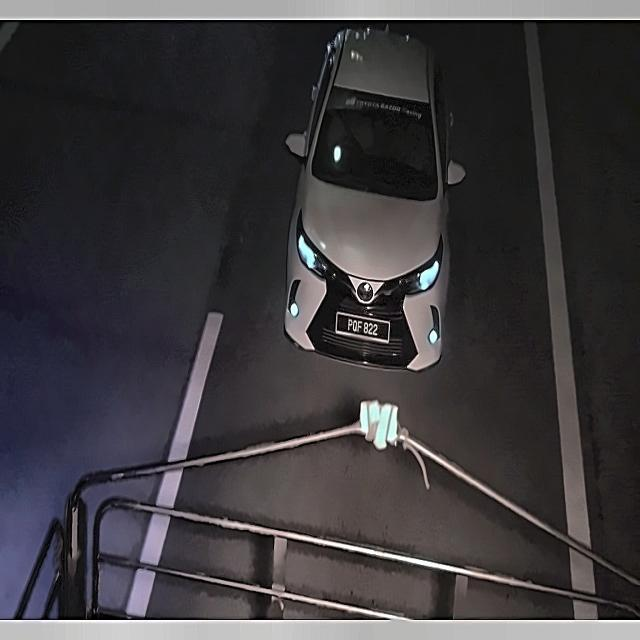car: (332, 304, 396, 348)
